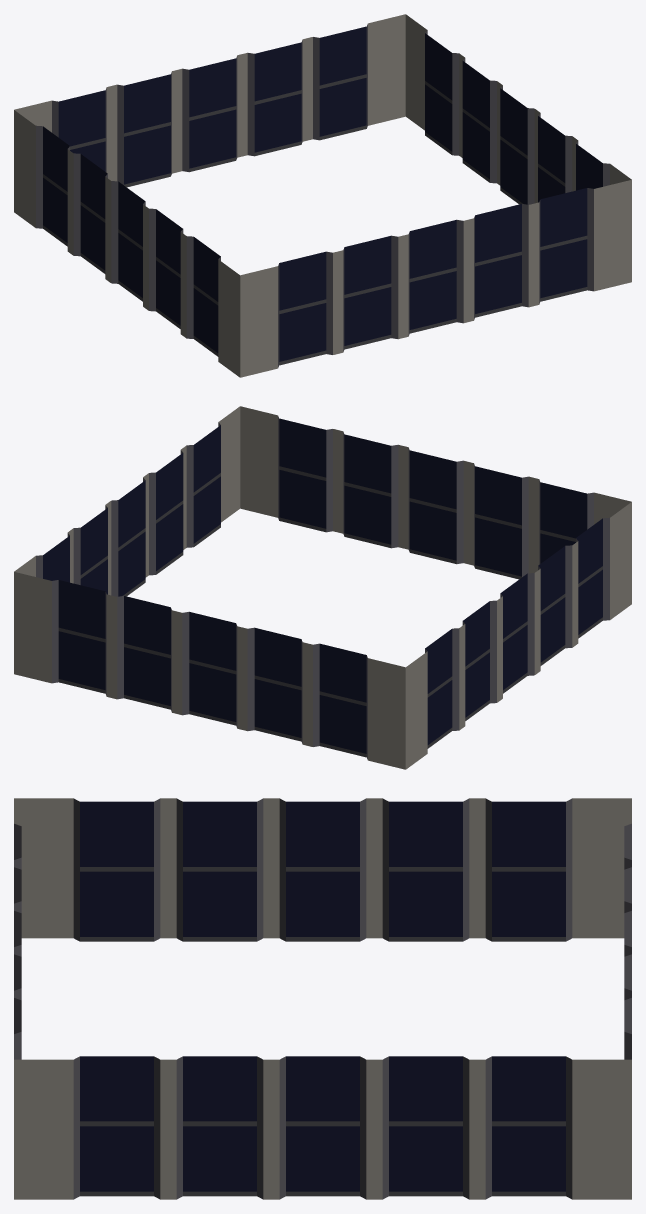
The model's file is TB_CITY_Skysc_M_BodyC_Gray.FBX.
The picture shows the model from 3 angles, top to bottom: view 1: azimuth 30°, elevation 25°; view 2: azimuth 150°, elevation 25°; view 3: azimuth 270°, elevation 25°; orthographic projection. The views are drawn at different scales.
Visible parts, largest first — view 1: TB_CITY_Skysc_M_BodyC_Gray; view 2: TB_CITY_Skysc_M_BodyC_Gray; view 3: TB_CITY_Skysc_M_BodyC_Gray.
Boxes of the visible parts, <box> form: TB_CITY_Skysc_M_BodyC_Gray: <box>14,14,631,377</box>; TB_CITY_Skysc_M_BodyC_Gray: <box>14,406,631,769</box>; TB_CITY_Skysc_M_BodyC_Gray: <box>14,798,631,1199</box>.
Size of the model in its own units: 20 by 5 by 20.
